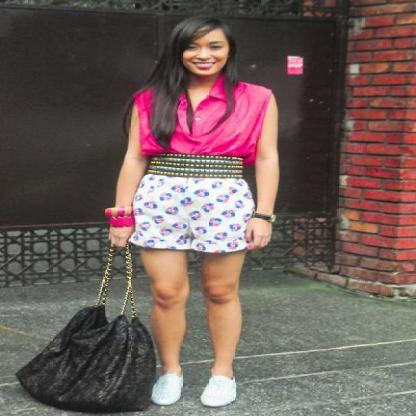bag: (15, 304, 161, 416)
shirt: (129, 79, 273, 157)
shoe: (152, 374, 235, 405)
skirt: (129, 175, 253, 252)
